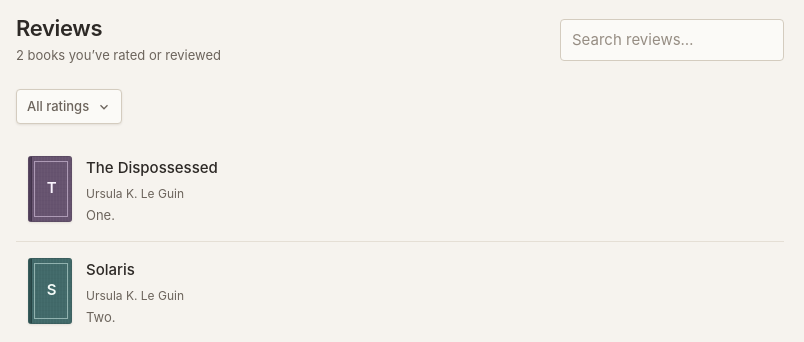
Test: the Reviews screen › searches the book as well as the review
In the search field labelled "Search reviews": [672, 40] box [560, 19, 784, 61], type "solaris"
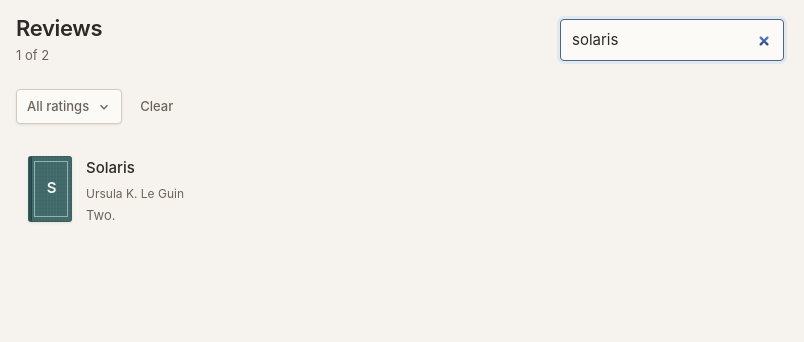
Check: the text "Two." is shown, box [86, 207, 116, 223]
Check: the button "One." is gone
